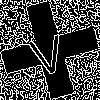V: (25, 25, 69, 78)
